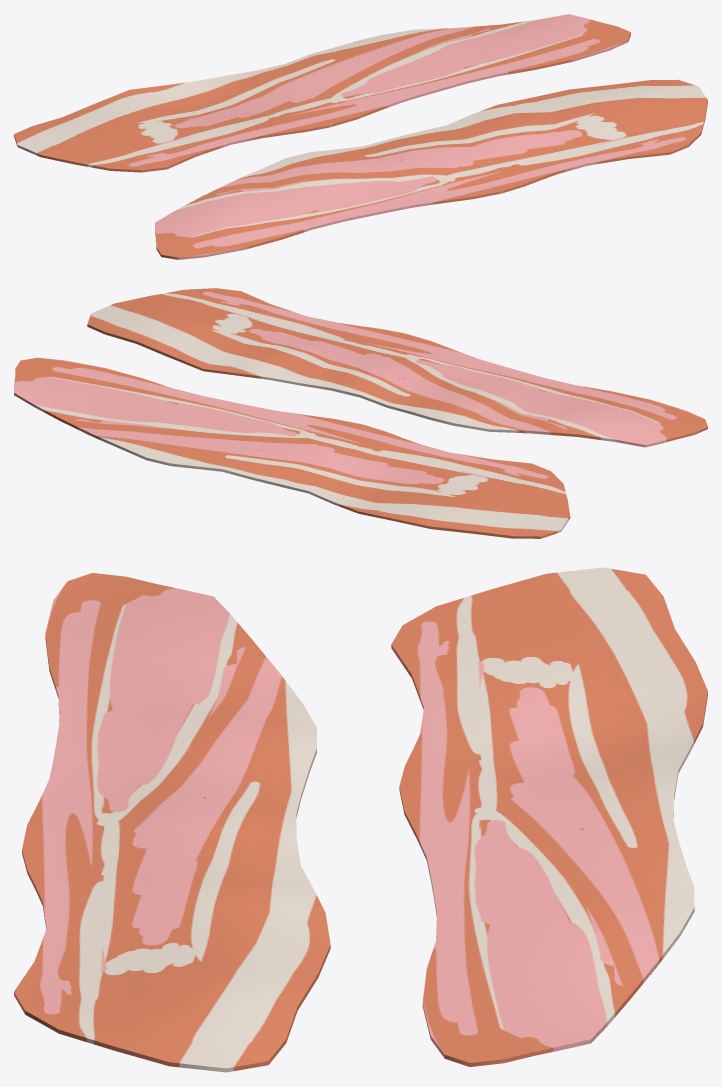
The model's file is Bacon.fbx.
3 renders of one model, top to bottom at view 1: azimuth 30°, elevation 25°; view 2: azimuth 150°, elevation 25°; view 3: azimuth 270°, elevation 25°, orthographic. The views are drawn at different scales.
Parts seen in each view (by area): view 1: Bacon; view 2: Bacon; view 3: Bacon.
Part boxes in pixels (box(x1,y1,x2,y2)): Bacon: box(14, 14, 707, 259); Bacon: box(14, 288, 707, 538); Bacon: box(14, 567, 707, 1072).
Size of the model in its own units: 18.41 by 0.3477 by 10.87.
